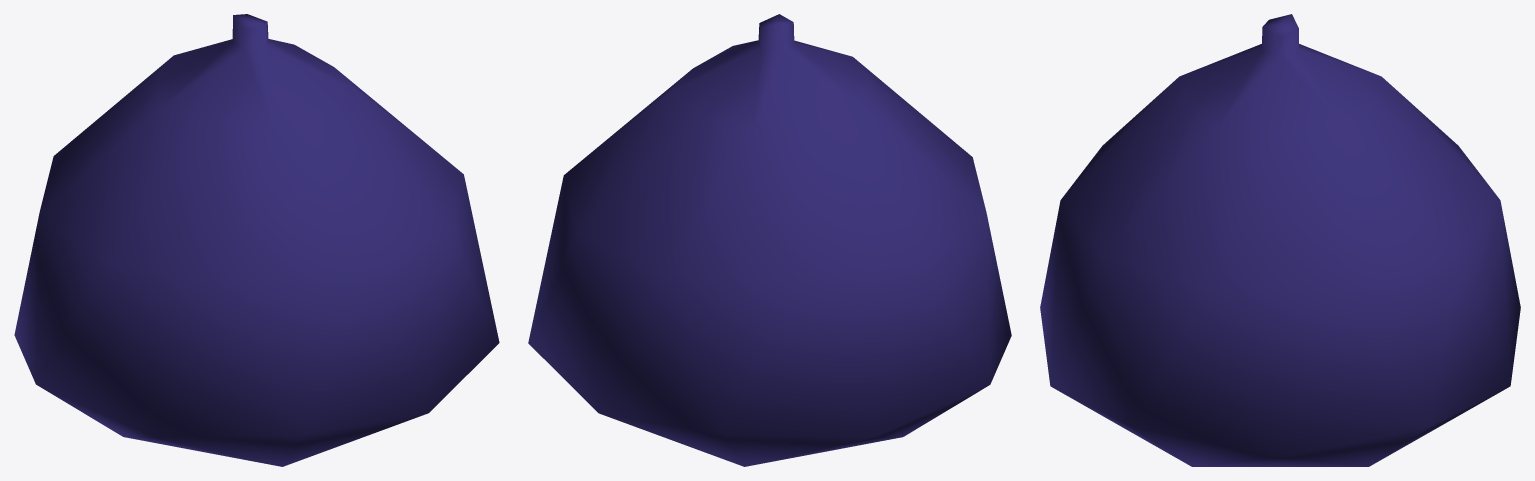
File: Fico Fruit Low Poly.fbx
3 renders of one model, left to right at view 1: azimuth 30°, elevation 25°; view 2: azimuth 150°, elevation 25°; view 3: azimuth 270°, elevation 25°, orthographic.
Parts seen in each view (by area): view 1: Icosphere.003; view 2: Icosphere.003; view 3: Icosphere.003.
Boxes of the visible parts, left/top/right/bottom form: Icosphere.003: left=14, top=14, right=499, bottom=466; Icosphere.003: left=528, top=14, right=1011, bottom=466; Icosphere.003: left=1040, top=14, right=1520, bottom=466.
Size of the model in its own units: 172 by 168 by 157.
